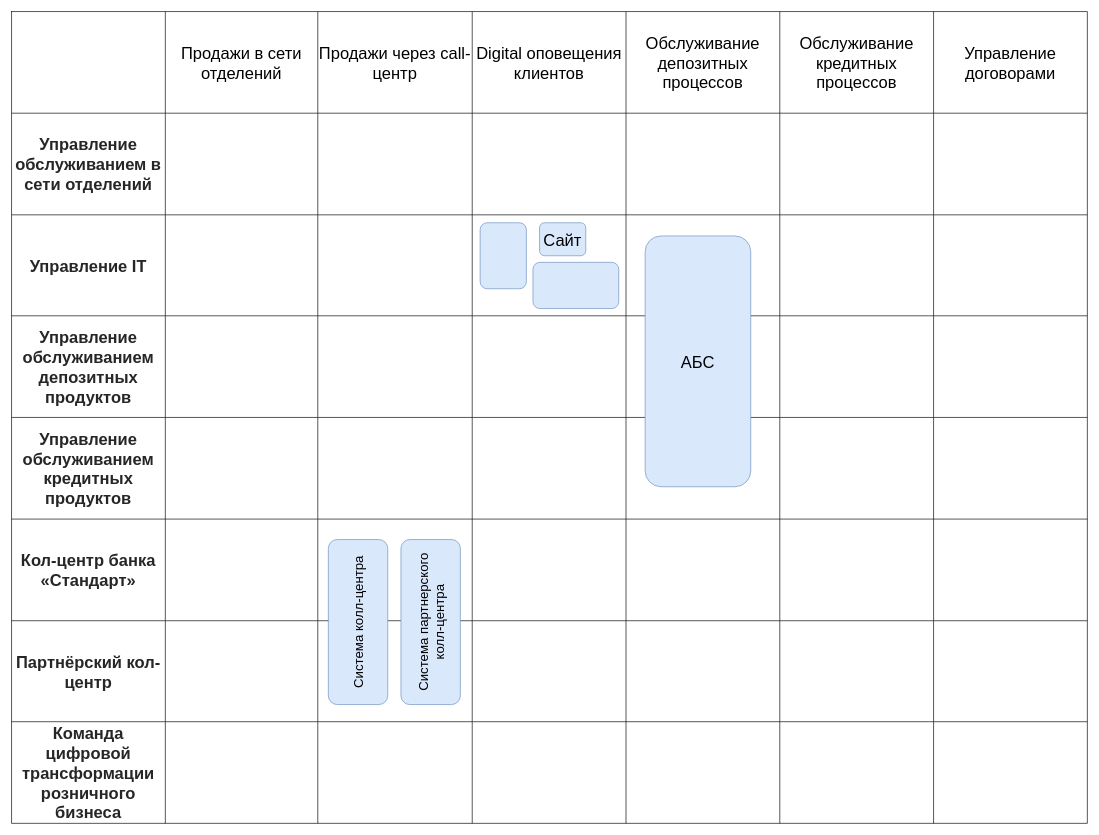
Image size: 1099x835. Some labels were removed from this diagram. The shapes that lost their labels are listed below. From the top down, each one's centre as x and y in pixels, then its label:
At point (502, 255): "СМС-шлюз телеком-оператора".
At point (575, 285): "Интернет банк".
